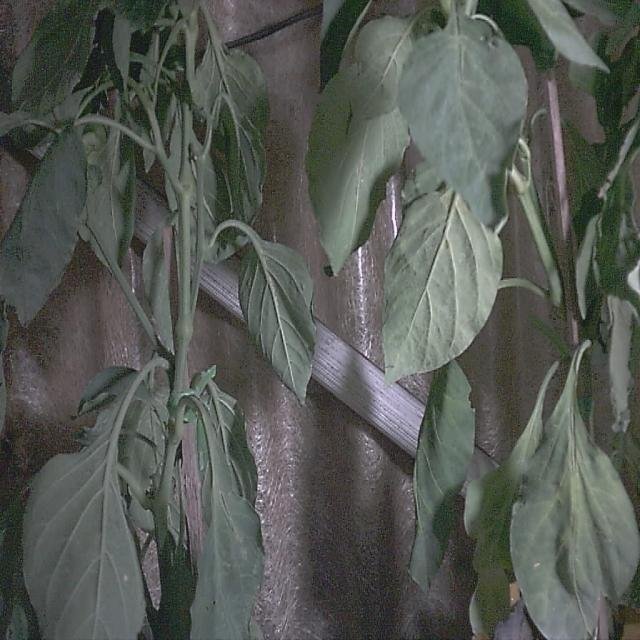Leaf: (511, 342, 639, 639), (399, 14, 527, 224), (24, 429, 144, 639), (383, 191, 502, 384), (0, 129, 86, 324), (410, 361, 474, 593), (239, 235, 315, 401)
